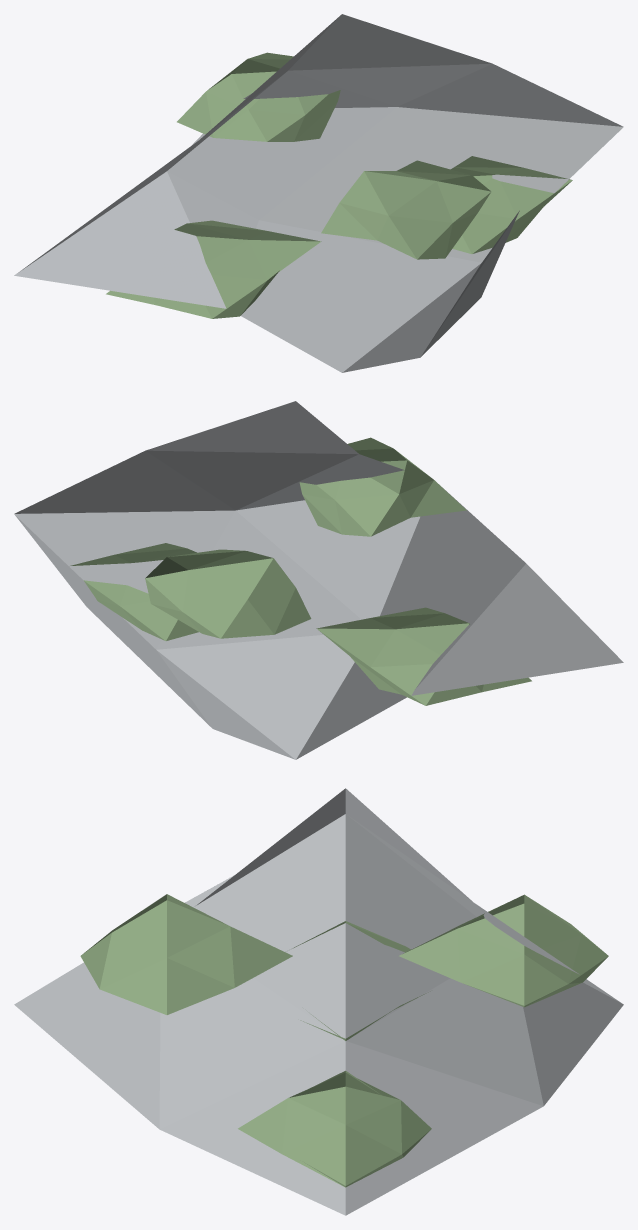
File: moss_rock_v38.glb
The picture shows the model from 3 angles, top to bottom: view 1: azimuth 30°, elevation 25°; view 2: azimuth 150°, elevation 25°; view 3: azimuth 270°, elevation 25°; orthographic projection. The views are drawn at different scales.
Visible parts, largest first — view 1: lod0; view 2: lod0; view 3: lod0.
Part boxes in pixels (x1=…): lod0: x1=14, y1=14, x2=623, y2=372; lod0: x1=14, y1=401, x2=623, y2=759; lod0: x1=14, y1=788, x2=623, y2=1215.
Size of what is drawn, in the model's own units: 1.53 by 0.8581 by 1.11.
